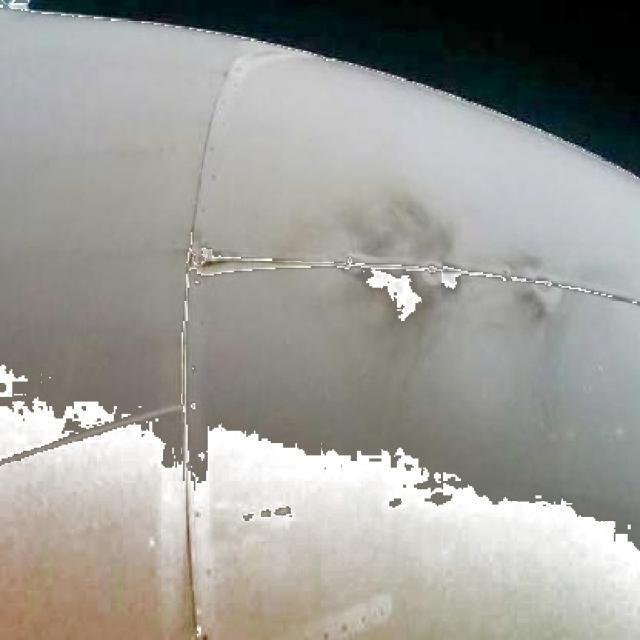crack: (192, 255, 347, 274)
